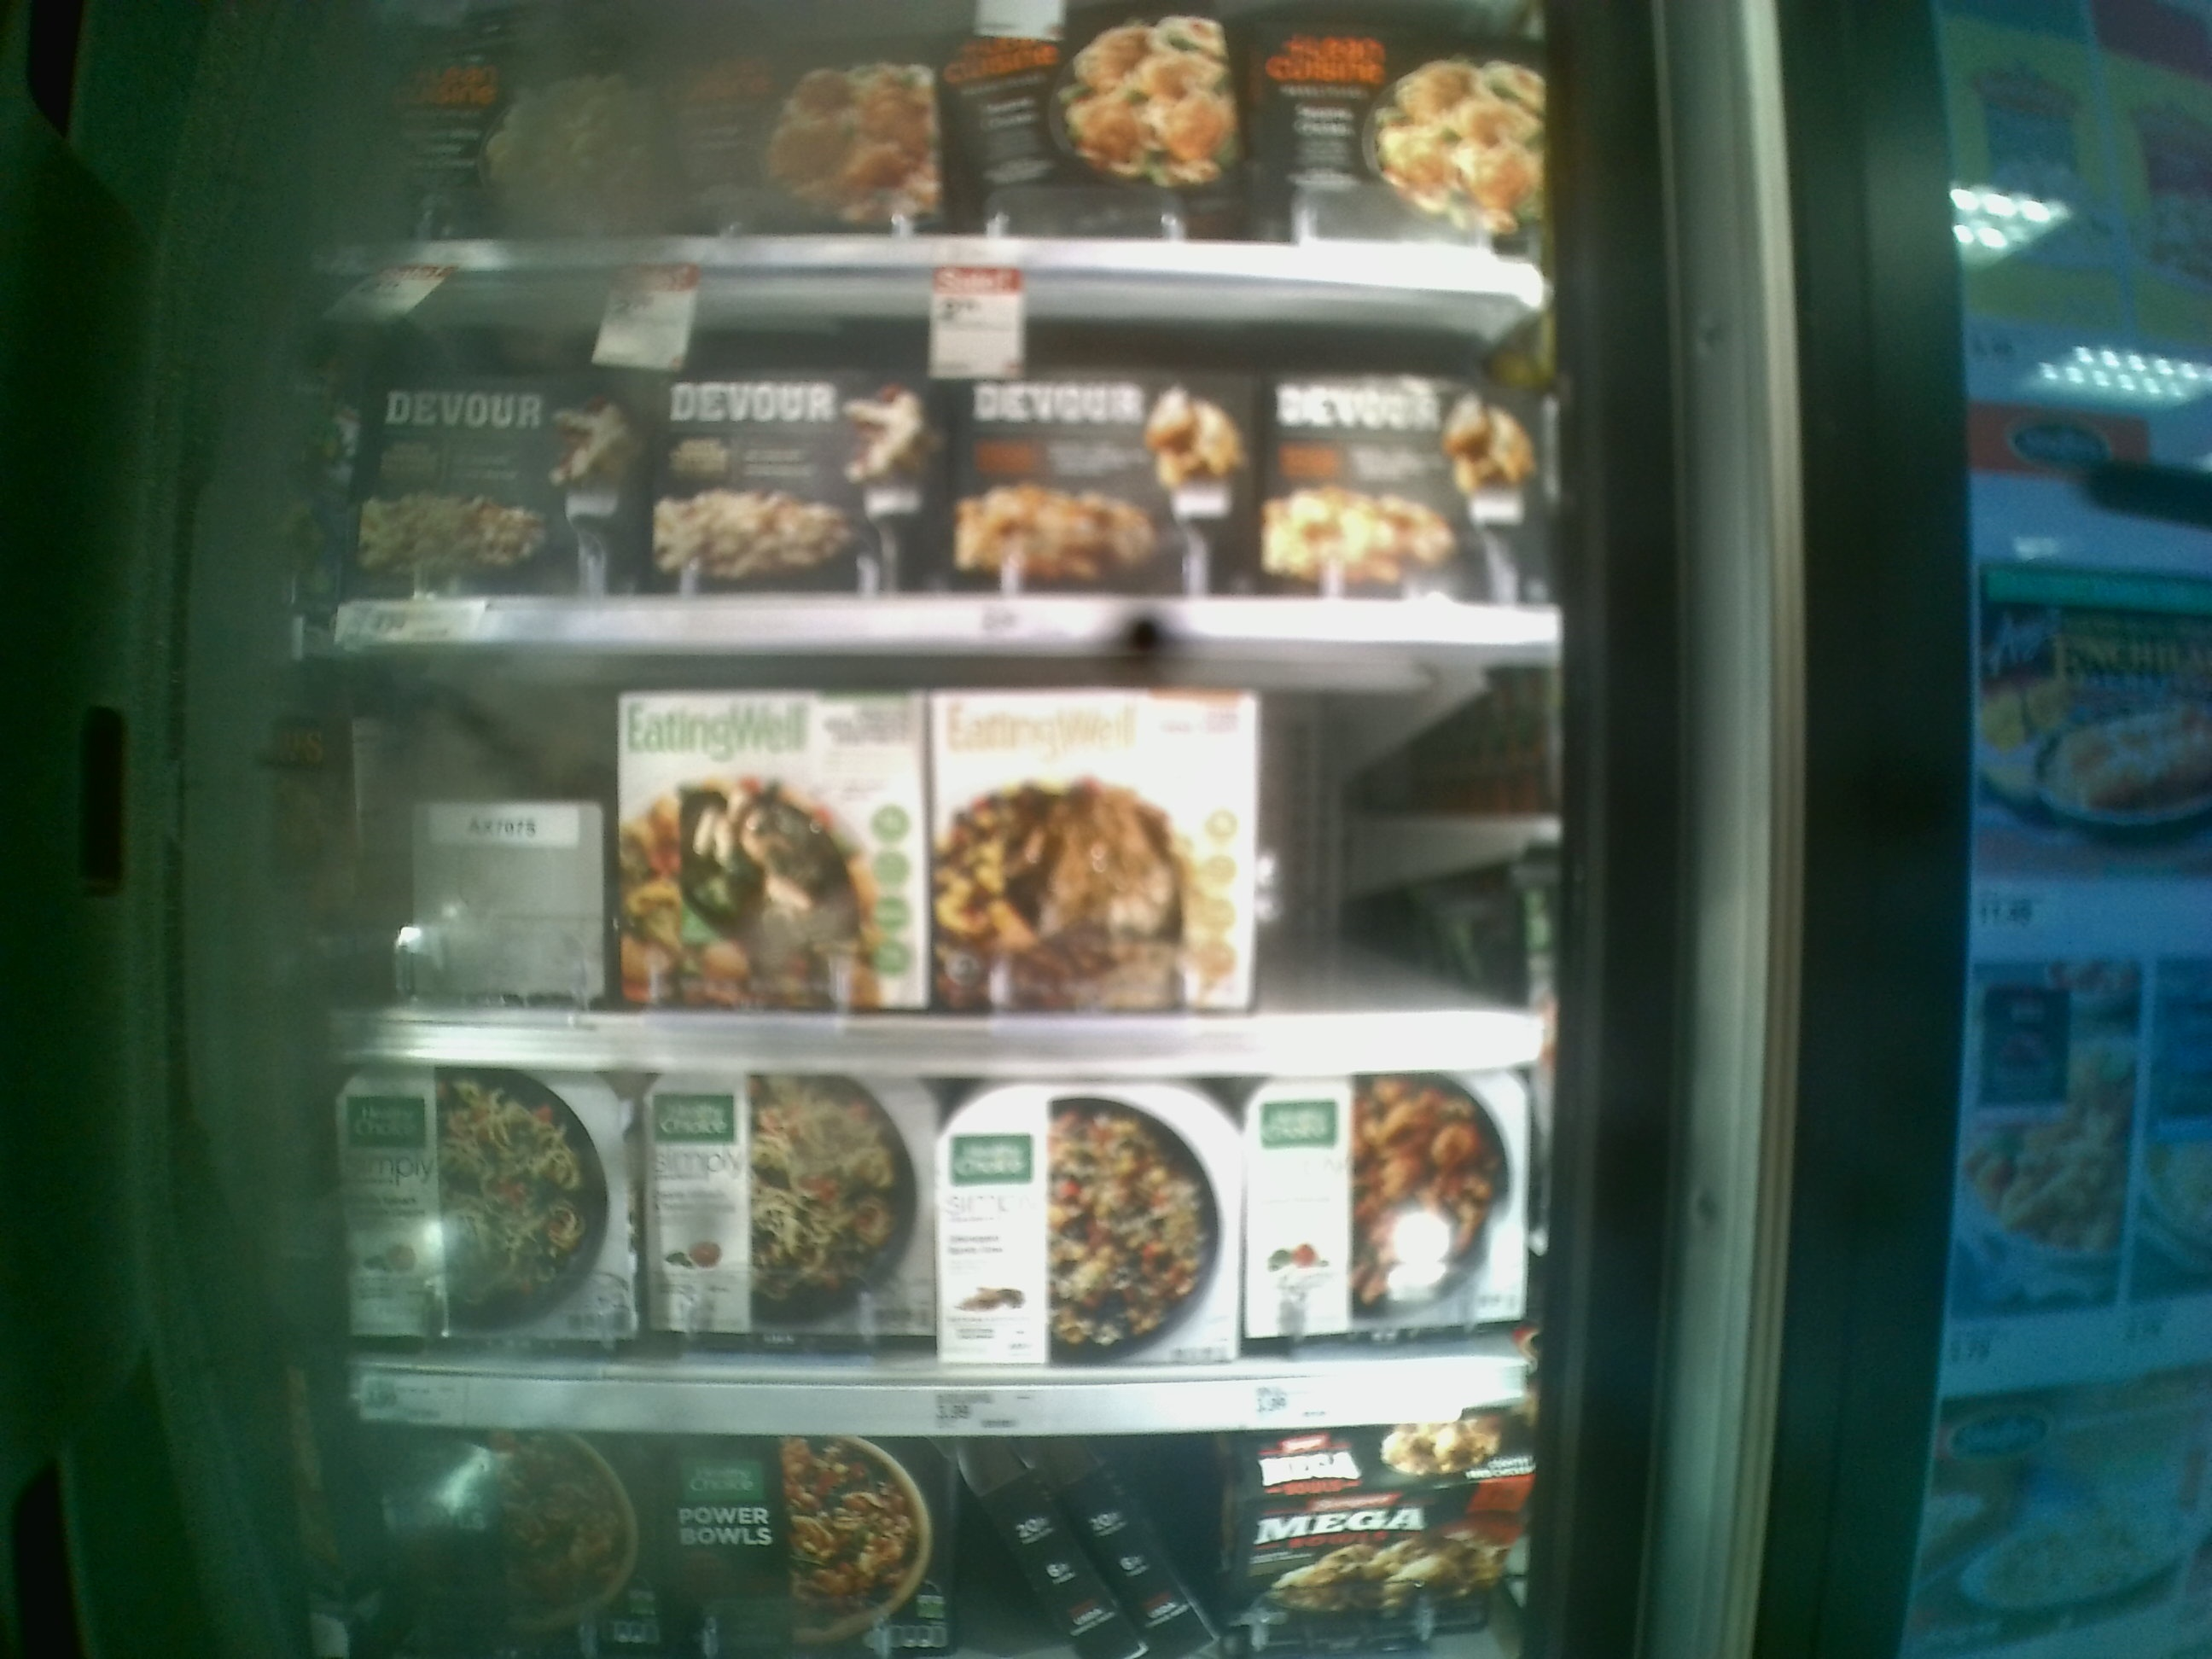shelf: (315, 657, 1554, 1068), (314, 263, 1569, 657), (320, 1066, 1533, 1436)
